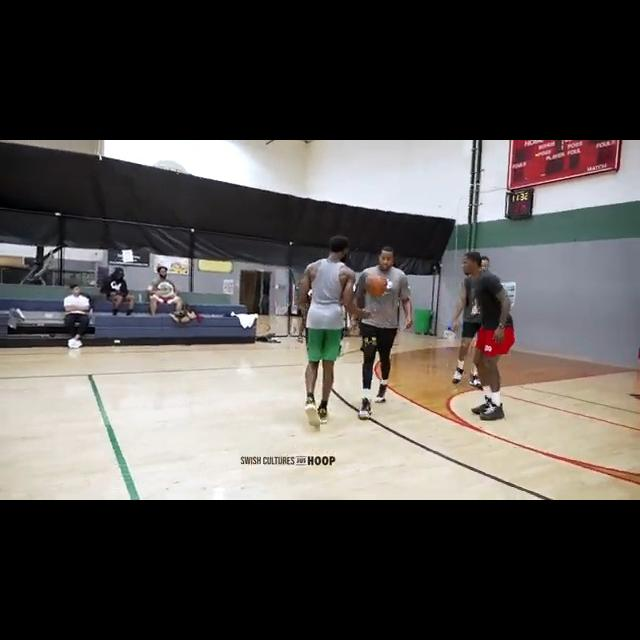basketball: (364, 273, 389, 297)
person: (296, 236, 361, 429), (352, 243, 413, 426), (461, 251, 518, 423), (446, 253, 493, 388), (142, 262, 186, 317), (62, 282, 93, 349), (102, 265, 133, 316)
